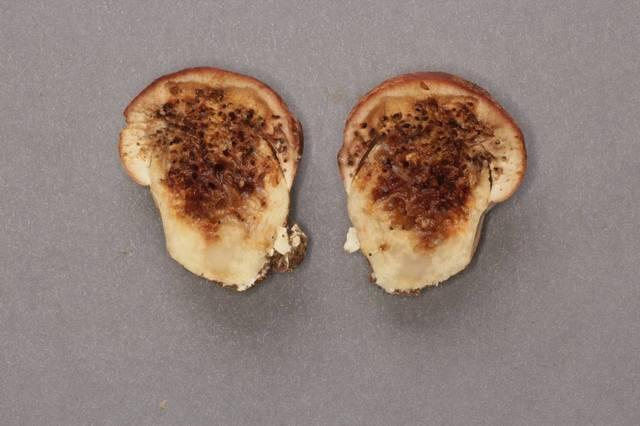edible_mushroom: (336, 69, 527, 296), (117, 65, 308, 292)
